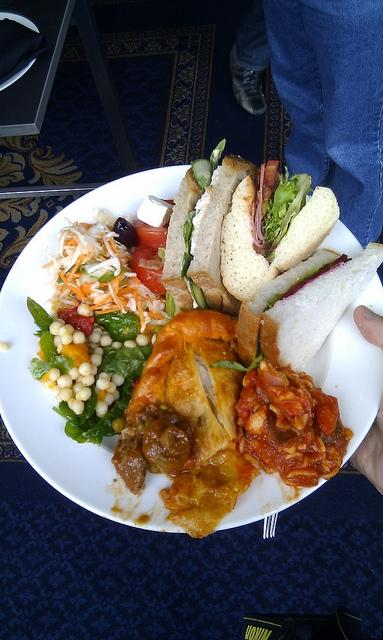lettuce: (270, 176, 314, 250), (100, 346, 153, 382), (59, 384, 97, 426), (96, 311, 138, 343), (208, 349, 264, 373), (274, 166, 298, 220), (29, 354, 76, 380), (26, 296, 54, 334), (183, 210, 196, 250), (278, 202, 286, 220)
mushroom: (142, 420, 190, 470), (112, 436, 146, 494)
tomato: (133, 247, 166, 296), (132, 219, 170, 257), (57, 305, 94, 338), (265, 160, 279, 188), (255, 168, 261, 190)
